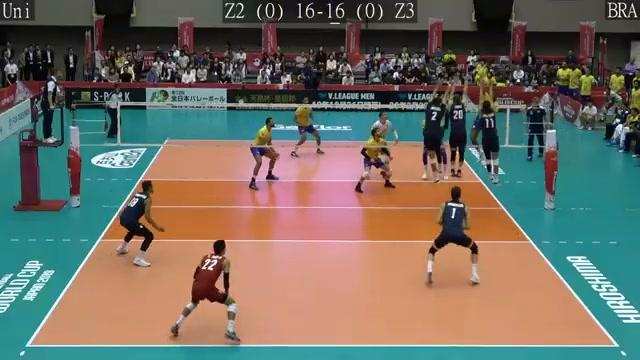ball: (483, 78, 492, 86)
